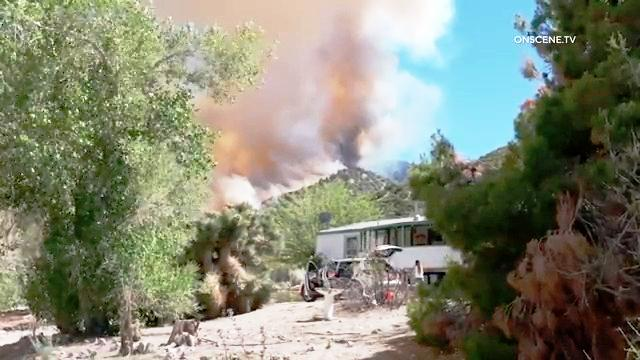smoke: (309, 96, 386, 166)
